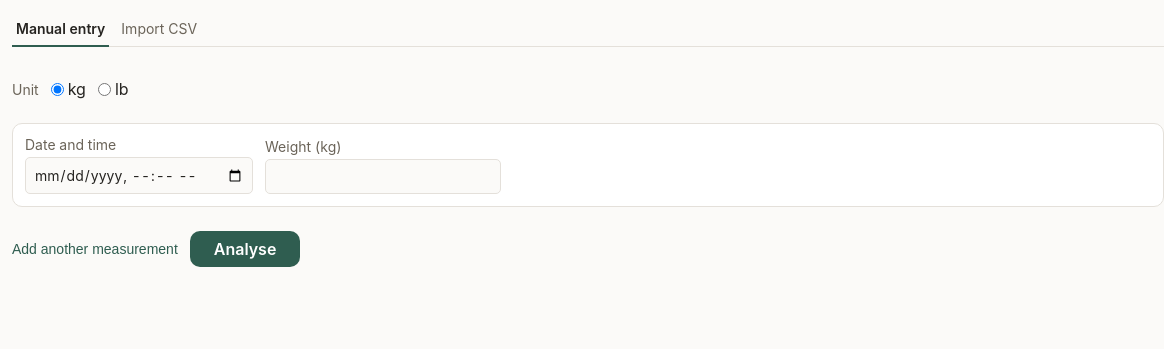
Test: AnalysisWorkspace › shows a submission error inline without losing the entered row
In the field labelled "Date and time": (139, 176) [25,157,253,194], type "2026-08-21T07:30"
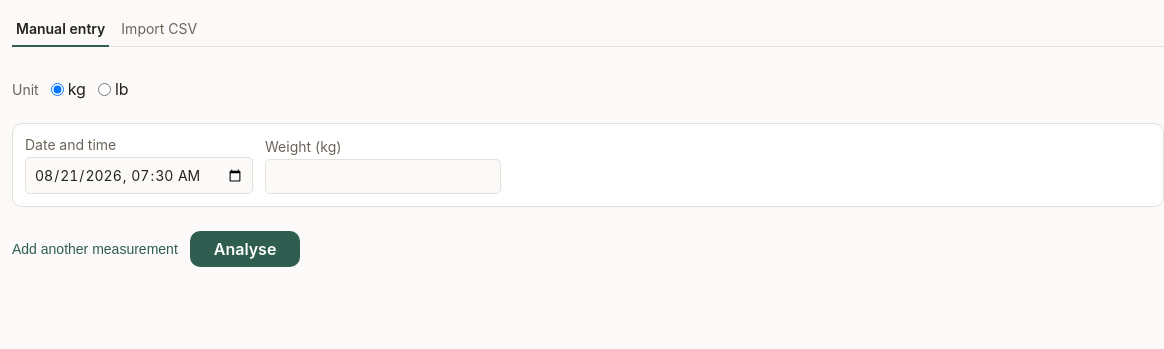
In the number field labelled "Weight (kg)": (383, 176) [265,159,501,194], type "72.4"
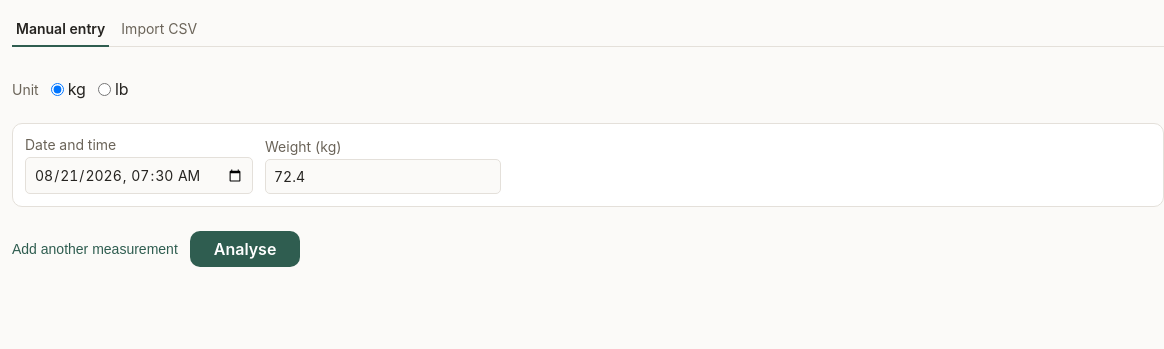
Click the button "Analyse": click(245, 249) [190,231,300,267]
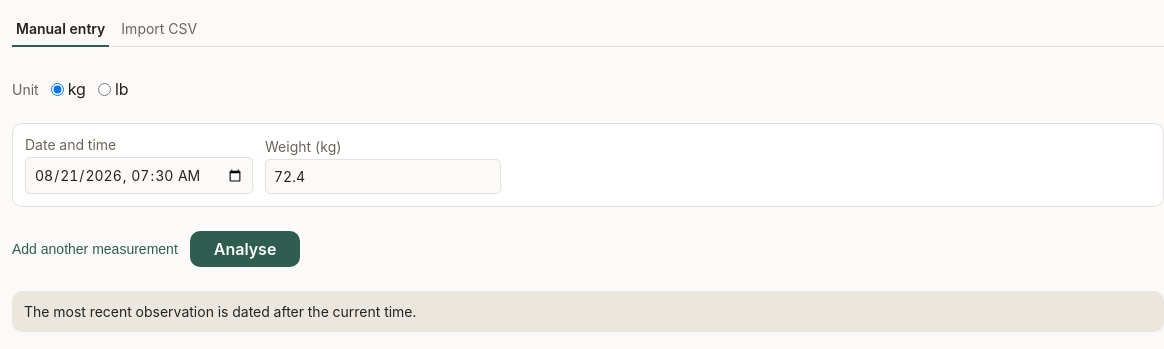
Expected: the message shows "dated after the current time", [24,303,416,320]
